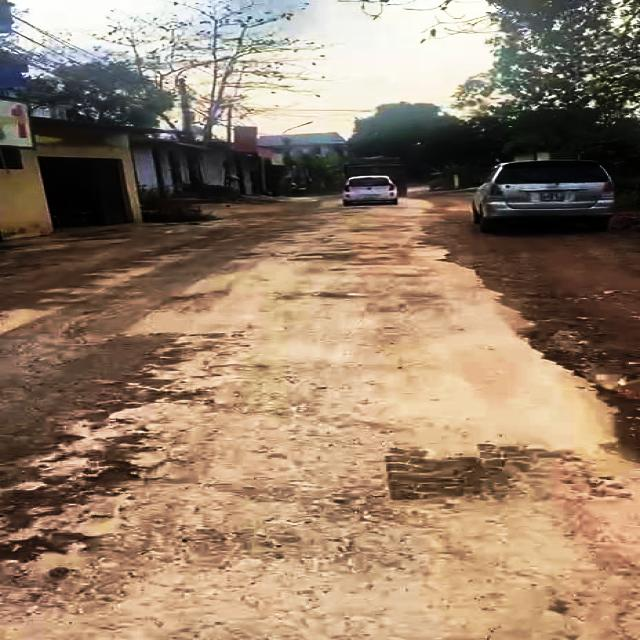pothole: (0, 457, 132, 559), (70, 374, 171, 424)
